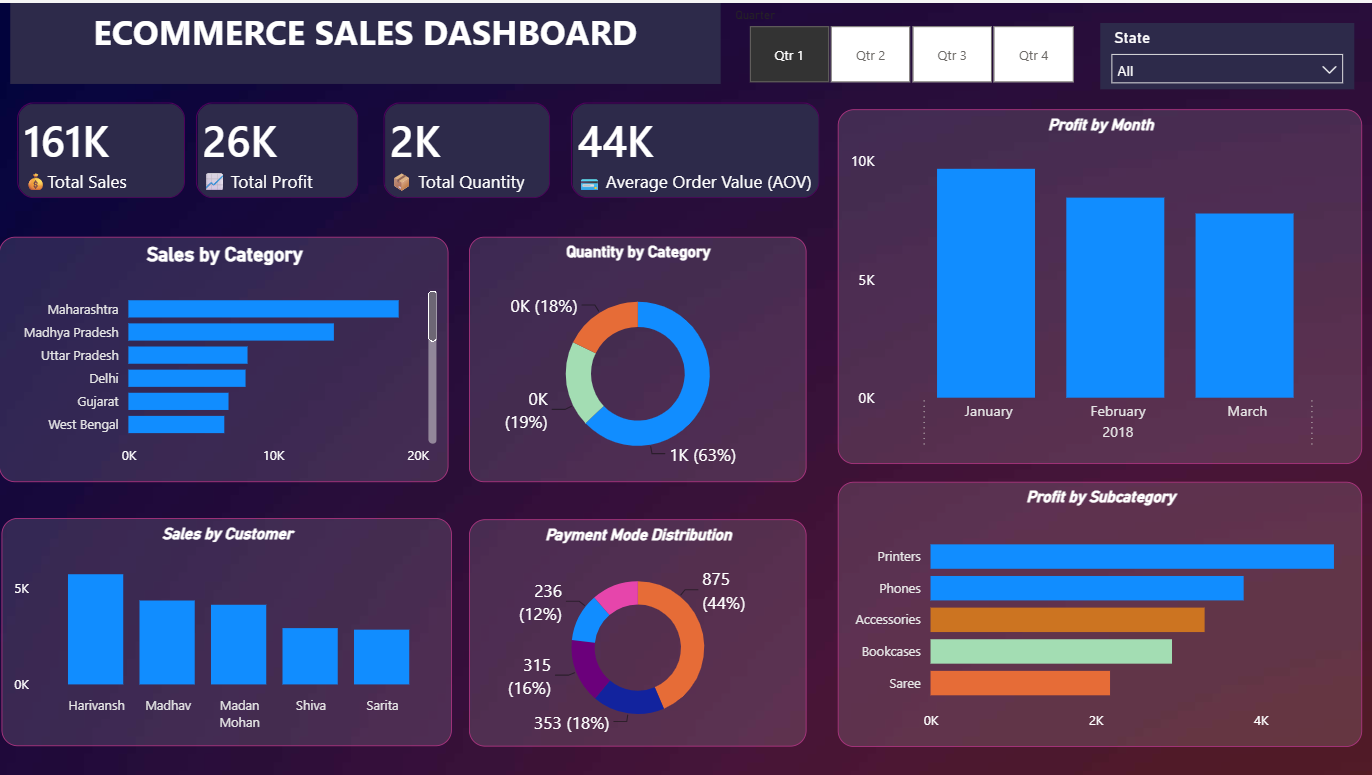

Layout of this report page (visuals, bound fields, positions):
{"tool":"powerbi","page":{"name":"Page 1","canvas":[1280,720],"ordinal":0},"visuals":[{"type":"textbox","box":[10,0,660,75],"z":0},{"type":"columnChart","title":"Profit by Month","fields":{"Category":["Orders.Order Date.Variation.Date Hierarchy.Year","Orders.Order Date.Variation.Date Hierarchy.Month"],"Y":["Sum(Details.Profit)"]},"box":[780,145,486,284],"z":1000},{"type":"barChart","title":"Profit by Subcategory","fields":{"Category":["Details.Sub-Category"],"Y":["Sum(Details.Profit)"]},"box":[796,444,470,246],"z":2000},{"type":"donutChart","fields":{"Category":["Details.Category"],"Y":["Sum(Details.Quantity)"]},"box":[436,228,312.3,215.9],"z":3000},{"type":"donutChart","fields":{"Category":["Details.PaymentMode"],"Y":["Sum(Details.Quantity)"]},"box":[436,478,344,212],"z":4000},{"type":"barChart","title":"Sum Of Amount by Category","fields":{"Category":["Orders.State"],"Y":["Sum(Details.Amount)"]},"box":[0,228,418,216],"z":5000},{"type":"columnChart","fields":{"Category":["Orders.CustomerName"],"Y":["Sum(Details.Amount)"]},"box":[2,478,418,212],"z":6000},{"type":"advancedSlicerVisual","fields":{"Label":["Min(Orders.Order Date.Variation.Date Hierarchy.Quarter)"],"Values":["Orders.Order Date.Variation.Date Hierarchy.Quarter"]},"box":[716,0,550,130],"z":7000},{"type":"cardVisual","fields":{"Data":["Sum(Details.Amount)"]},"box":[0,75,165,118.3],"z":8000},{"type":"cardVisual","fields":{"Data":["Sum(Details.Quantity)"]},"box":[165,73.3,175,118.3],"z":9000},{"type":"cardVisual","fields":{"Data":["Sum(Details.Profit)"]},"box":[340,70,158.3,121.7],"z":10000},{"type":"cardVisual","fields":{"Data":["Sum(Details.AOV)"]},"box":[498.3,70,156.7,123.3],"z":11000}]}

Visuals, with their boxes in screenshot pixels (x1, y1, x2, y2), scaled from the page's 1280x720 canvas onto the 1372x775 screenshot:
textbox: detection(11, 0, 718, 81)
"Profit by Month" columnChart: detection(836, 156, 1357, 462)
"Profit by Subcategory" barChart: detection(853, 478, 1357, 743)
donutChart - Details.Category x Sum(Details.Quantity): detection(467, 245, 802, 478)
donutChart - Details.PaymentMode x Sum(Details.Quantity): detection(467, 515, 836, 743)
"Sum Of Amount by Category" barChart: detection(0, 245, 448, 478)
columnChart - Orders.CustomerName x Sum(Details.Amount): detection(2, 515, 450, 743)
advancedSlicerVisual - Min(Orders.Order Date.Variation.Date Hierarchy.Quarter) x Orders.Order Date.Variation.Date Hierarchy.Quarter: detection(767, 0, 1357, 140)
cardVisual - Sum(Details.Amount): detection(0, 81, 177, 208)
cardVisual - Sum(Details.Quantity): detection(177, 79, 364, 206)
cardVisual - Sum(Details.Profit): detection(364, 75, 534, 206)
cardVisual - Sum(Details.AOV): detection(534, 75, 702, 208)
